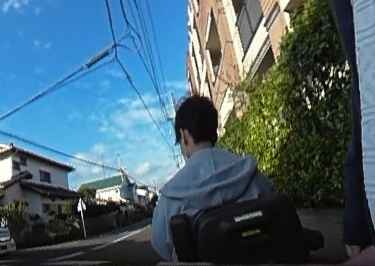person: (154, 86, 270, 266)
